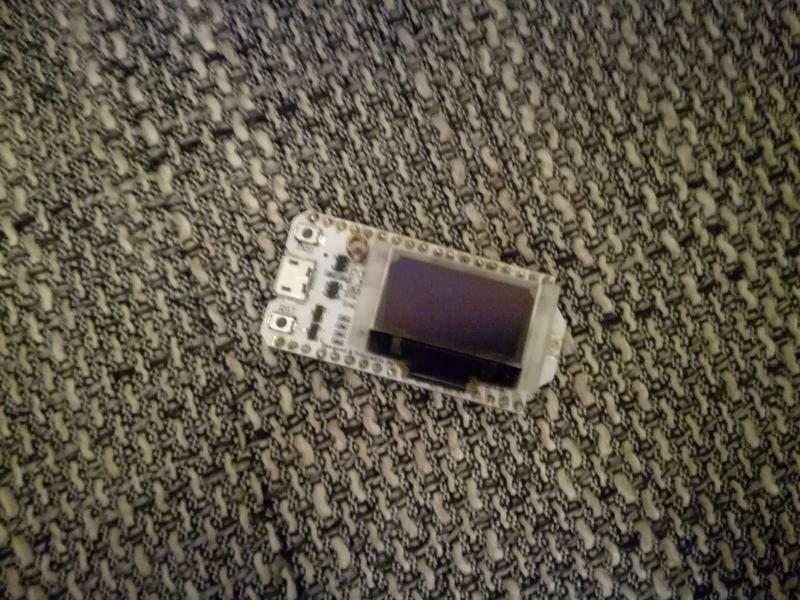Heltec_ESP32_Lora: (250, 202, 572, 420)
